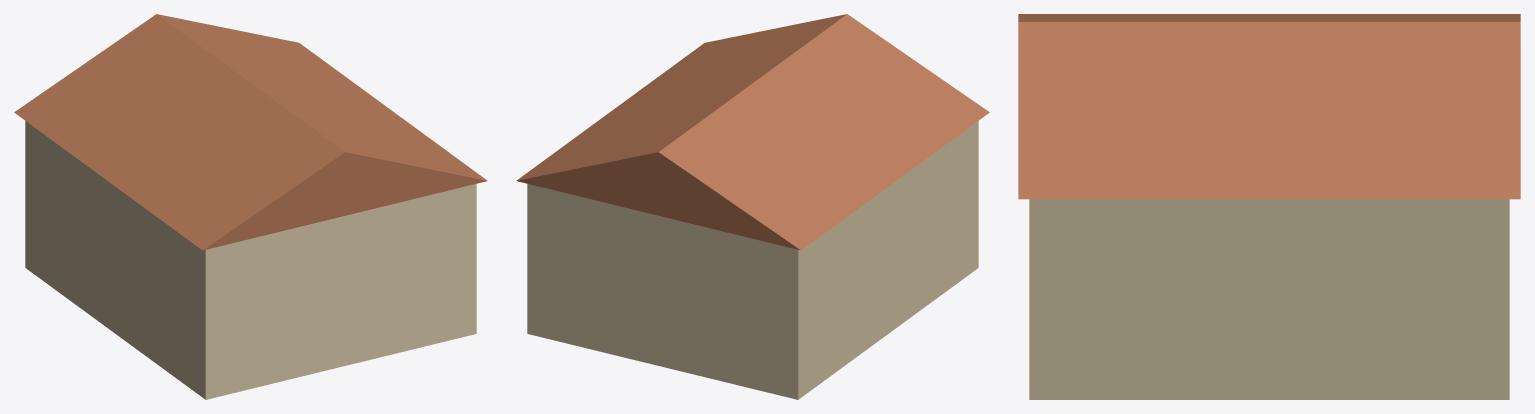
Rendered from block_workshop.glb.
3 renders of one model, left to right at view 1: azimuth 30°, elevation 25°; view 2: azimuth 150°, elevation 25°; view 3: azimuth 270°, elevation 25°, orthographic. The views are drawn at different scales.
Parts seen in each view (by area): view 1: Body.002, Roof.002; view 2: Body.002, Roof.002; view 3: Body.002, Roof.002.
Boxes of the visible parts, bbox=[...] form: Body.002: bbox=[25, 121, 476, 399]; Roof.002: bbox=[14, 14, 487, 250]; Body.002: bbox=[527, 121, 978, 399]; Roof.002: bbox=[516, 14, 989, 250]; Body.002: bbox=[1029, 199, 1509, 399]; Roof.002: bbox=[1018, 14, 1520, 199].
Size of the model in its own units: 13.7 by 10 by 15.7.
